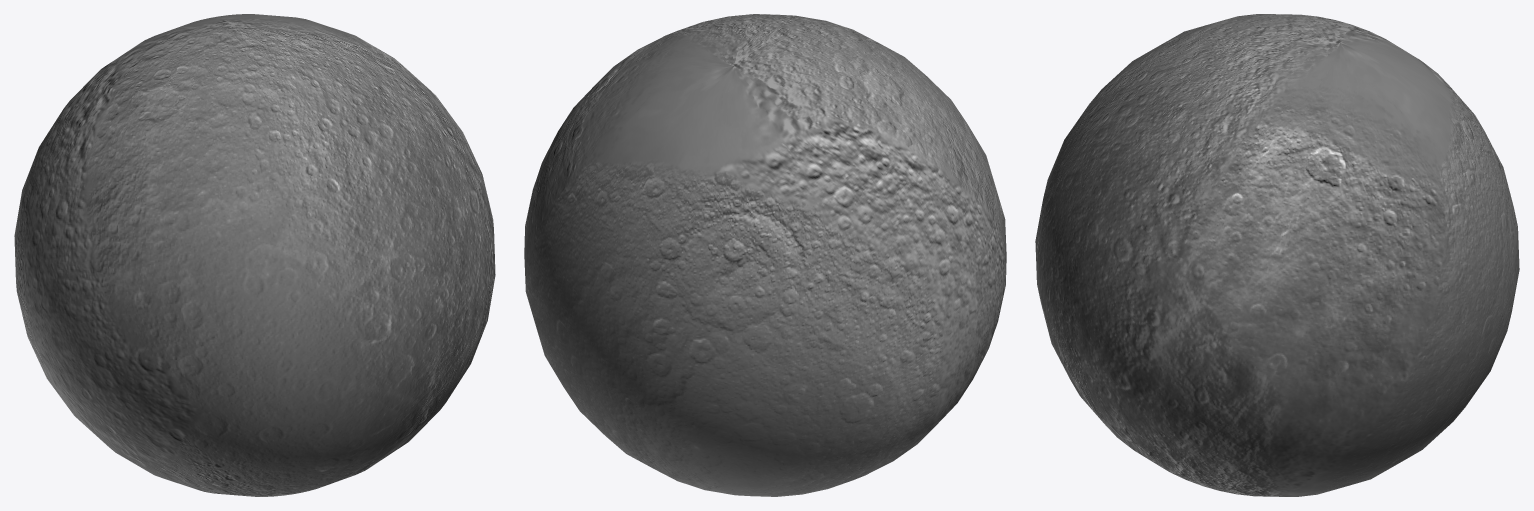
File: saturn_moon_1.obj
3 renders of one model, left to right at view 1: azimuth 30°, elevation 25°; view 2: azimuth 150°, elevation 25°; view 3: azimuth 270°, elevation 25°, orthographic.
Visible parts, largest first — view 1: Rhea_Mesh.001; view 2: Rhea_Mesh.001; view 3: Rhea_Mesh.001.
Part boxes in pixels (<box>): Rhea_Mesh.001: <box>14,14,495,496</box>; Rhea_Mesh.001: <box>524,14,1006,496</box>; Rhea_Mesh.001: <box>1035,14,1519,496</box>.
Size of the model in its own units: 9.82 by 9.79 by 9.79.
Materials: 1 (1 with a texture image).
